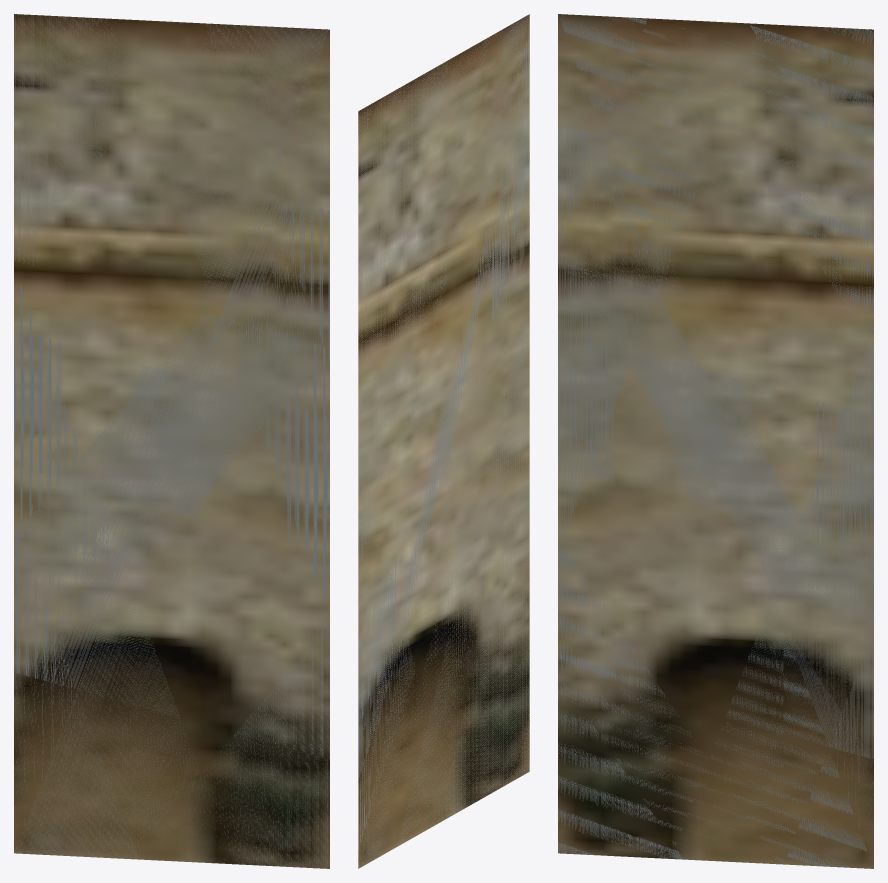
The model's file is 西庸城堡136.dae.
3 views of the same model, side by side, from view 1: azimuth 90°, elevation 25°; view 2: azimuth 150°, elevation 25°; view 3: azimuth 270°, elevation 25° (orthographic). The views are drawn at different scales.
Parts seen in each view (by area): view 1: SketchUp; view 2: SketchUp; view 3: SketchUp.
Boxes of the visible parts, left/top/right/bottom form: SketchUp: left=14, top=14, right=329, bottom=868; SketchUp: left=358, top=14, right=529, bottom=868; SketchUp: left=558, top=14, right=873, bottom=868.
Size of the model in its own units: 4.71 by 40.29 by 118.
